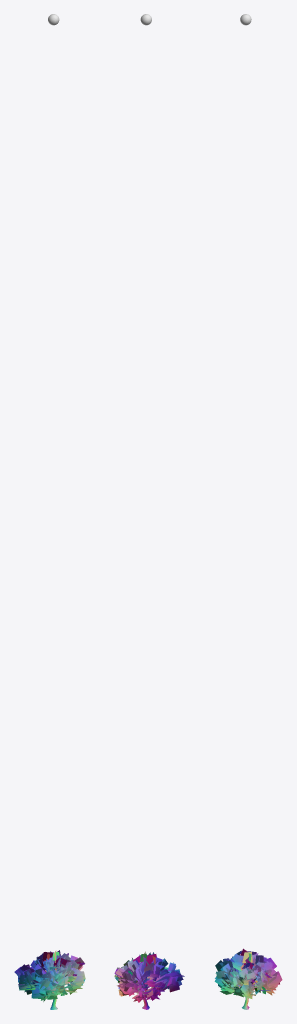
3 renders of one model, left to right at view 1: azimuth 30°, elevation 25°; view 2: azimuth 210°, elevation 25°; view 3: azimuth 330°, elevation 25°, orthographic.
Parts seen in each view (by area): view 1: SM_TR_Olive_10m; view 2: SM_TR_Olive_10m; view 3: SM_TR_Olive_10m.
Part boxes in pixels (x1,y1,x2,y2): SM_TR_Olive_10m: [14, 950, 85, 1009]; SM_TR_Olive_10m: [114, 951, 184, 1009]; SM_TR_Olive_10m: [214, 948, 282, 1009].
Size of the model in its own units: 1288 by 19279 by 1091.
